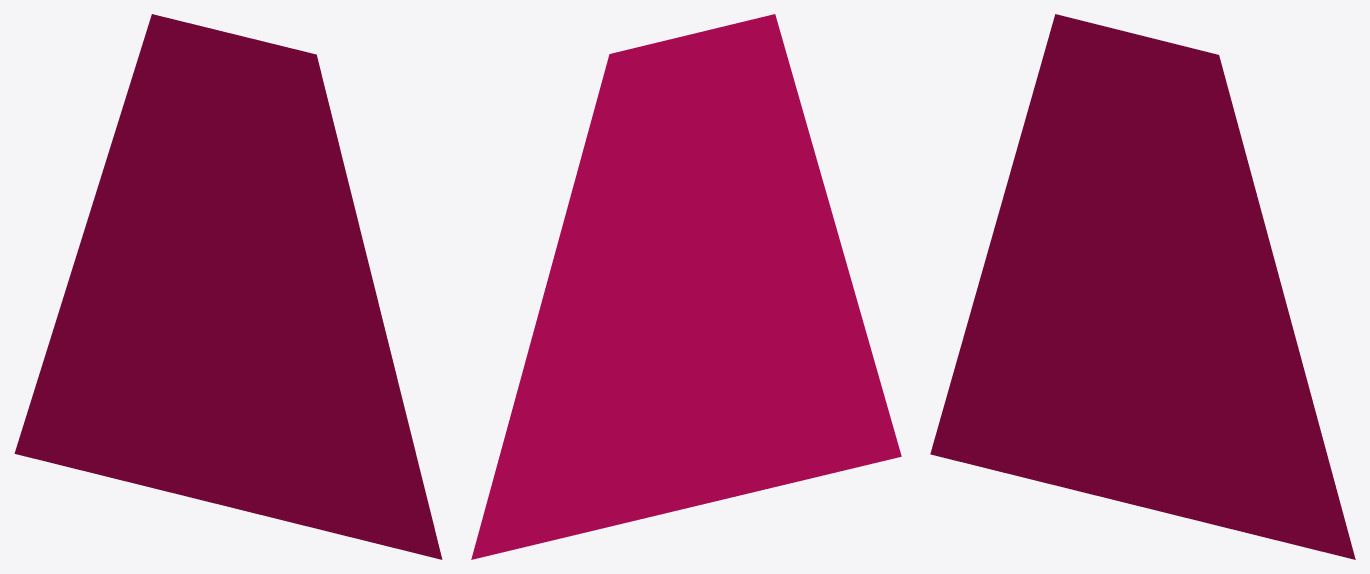
The model's file is pereriz.gltf.
The picture shows the model from 3 angles, left to right: view 1: azimuth 90°, elevation 25°; view 2: azimuth 150°, elevation 25°; view 3: azimuth 270°, elevation 25°; orthographic projection.
Visible parts, largest first — view 1: pereriz; view 2: pereriz; view 3: pereriz.
Boxes of the visible parts, x1,y1,x2,y2 form: pereriz: (14,14,442,559); pereriz: (471,14,901,559); pereriz: (930,14,1355,559).
Size of the model in its own units: 1.16 by 2.42 by 1.98.
